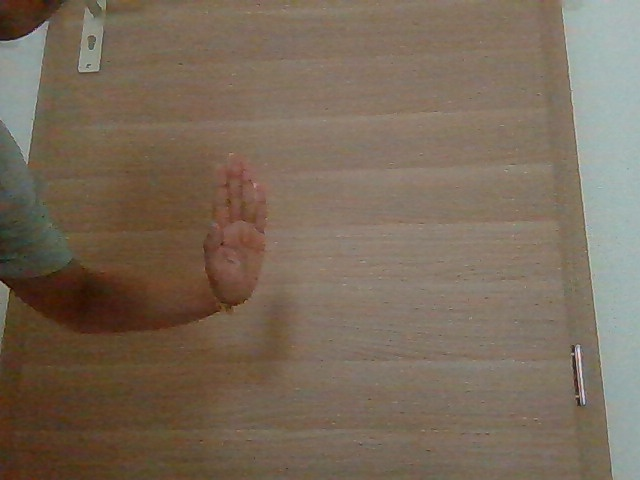open_hand: (195, 152, 286, 311)
